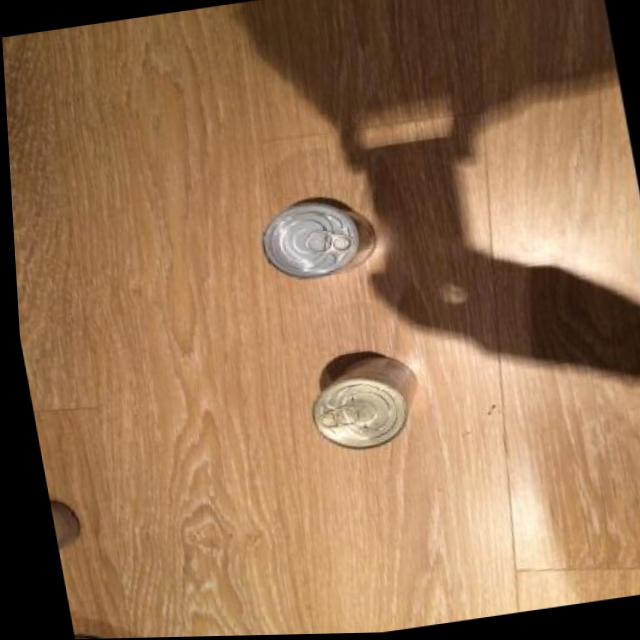metal: (302, 345, 434, 457), (255, 190, 388, 287)
